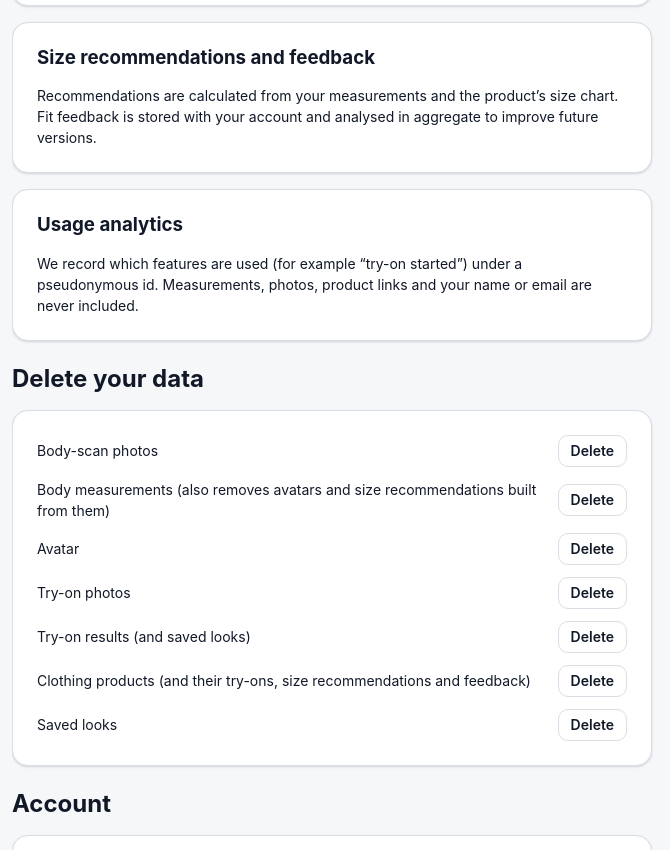
it: privacy & data controls › explains each sensitive feature and deletes data by category
(page scrolled)
Click the button "Delete" in the row of "Body-scan photos" at (592, 451), box 558,435 -> 627,467
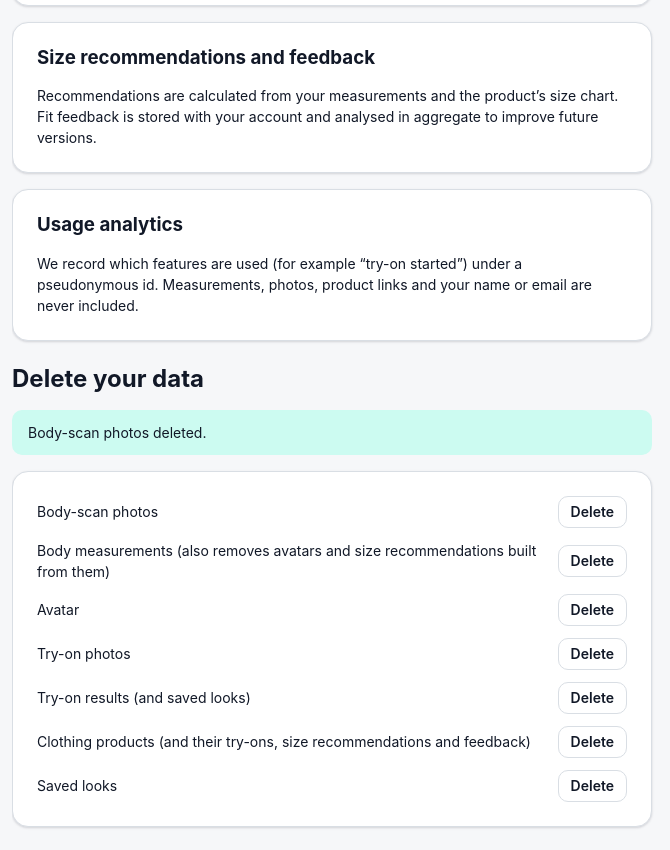
Now the text "Body-scan photos deleted." is shown, box 12,410 -> 652,455
